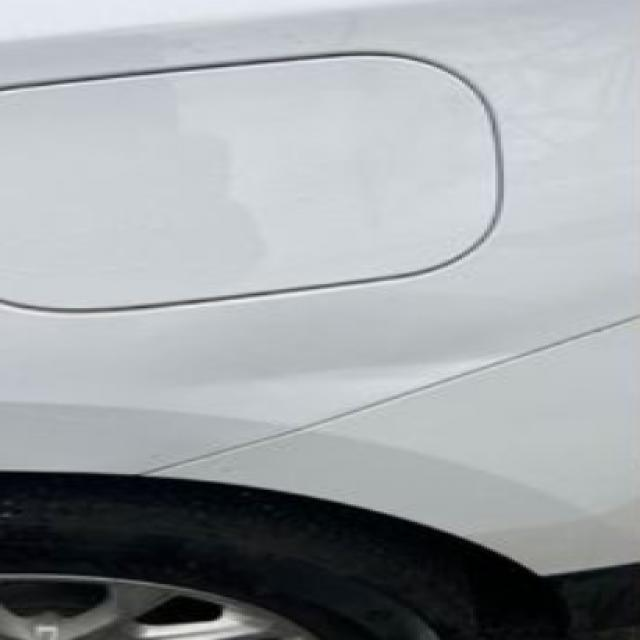dents: (188, 357, 492, 408)
